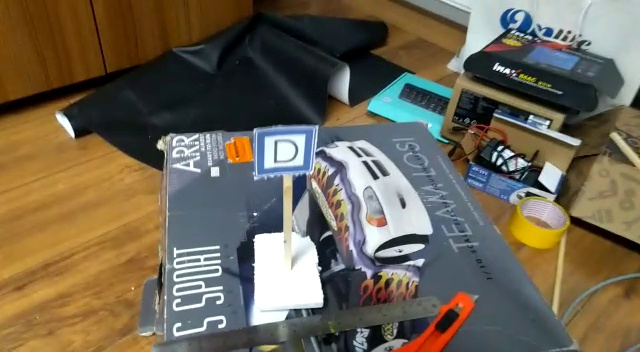durak: (254, 129, 310, 173)
